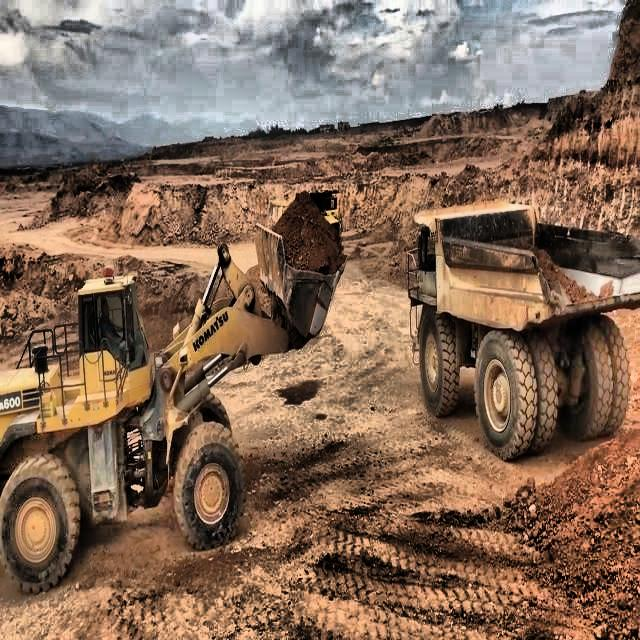bull_dozer/loader/grader: (0, 188, 349, 604)
dump_truck: (403, 197, 640, 462)
